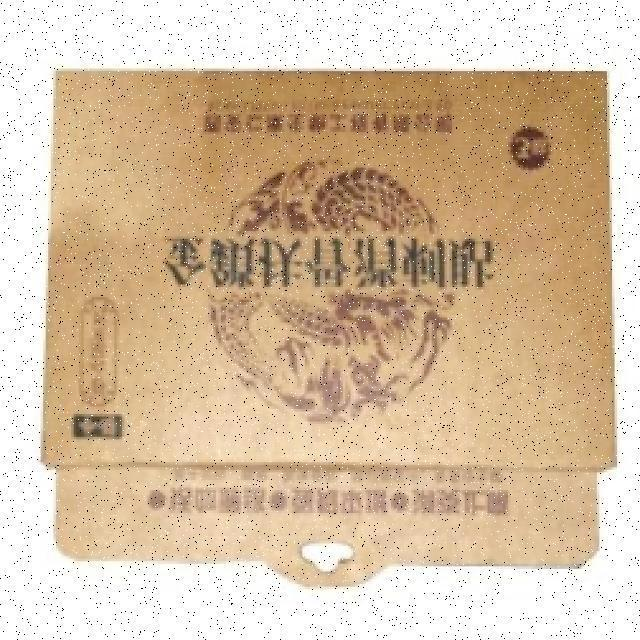box: (60, 52, 617, 578)
